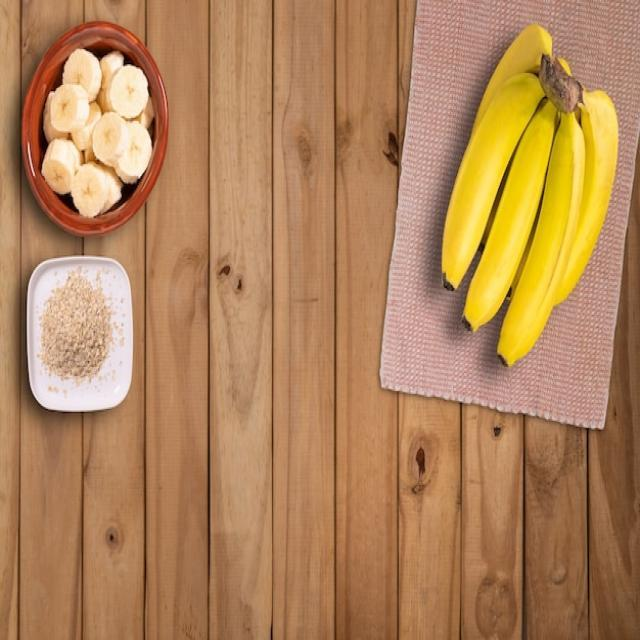banana: (434, 18, 622, 376)
